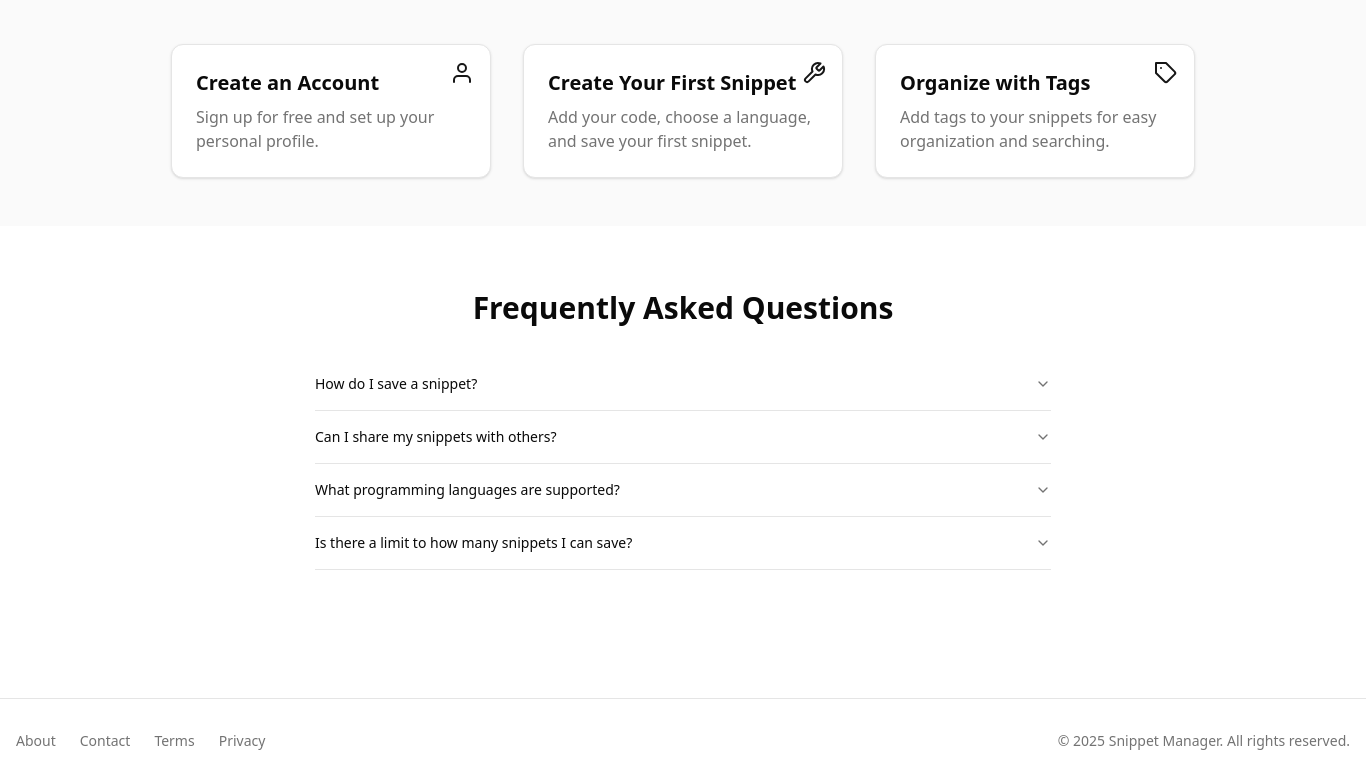
Test case: GetStarted Page › shows FAQ section with expandable items
(page scrolled)
Expected: the heading "Frequently Asked Questions" is shown, [473, 287, 893, 328]
Expected: the button "Can I share my snippets with others?" is shown, [315, 411, 1051, 463]
Test accordion functionality
Click the button "How do I save a snippet?" at (396, 384), box [315, 358, 1051, 410]
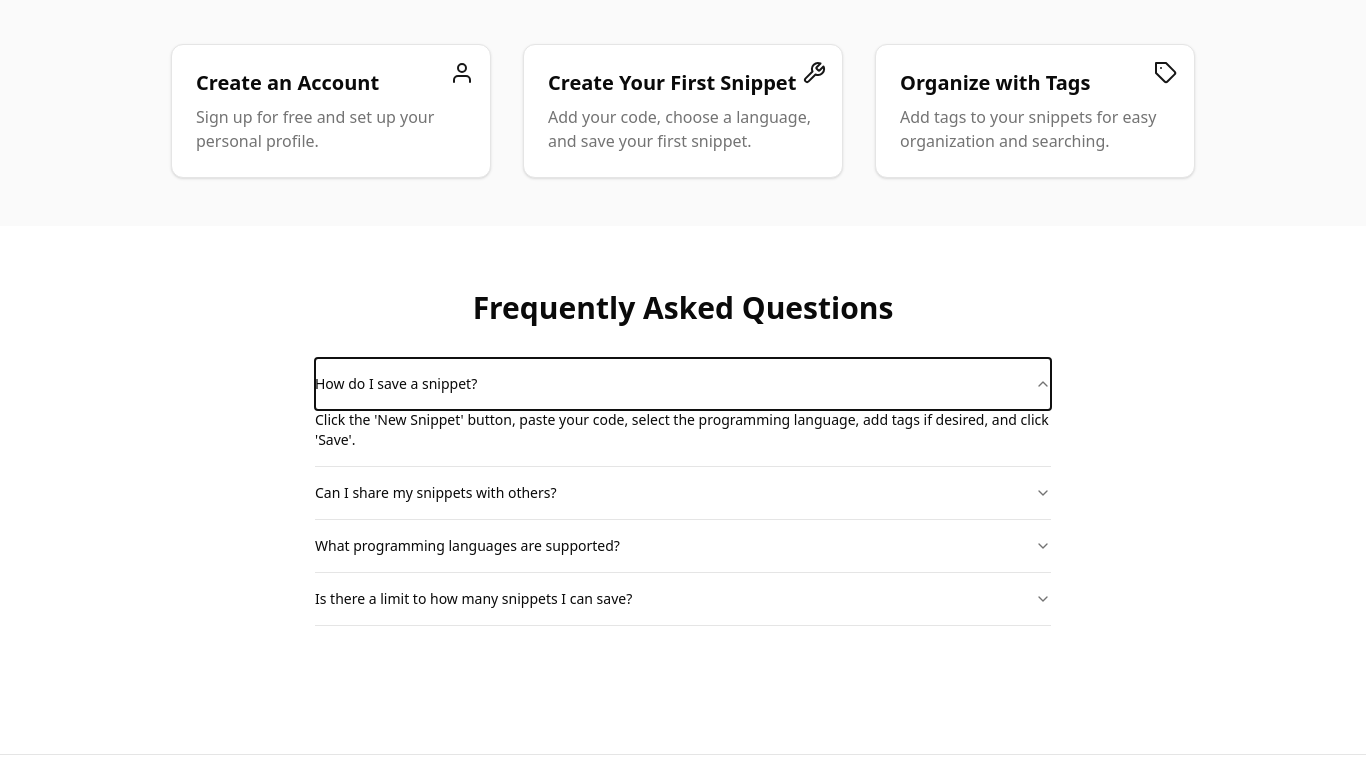
Now the text "Click the 'New Snippet' button" is shown, box [315, 410, 1049, 449]
